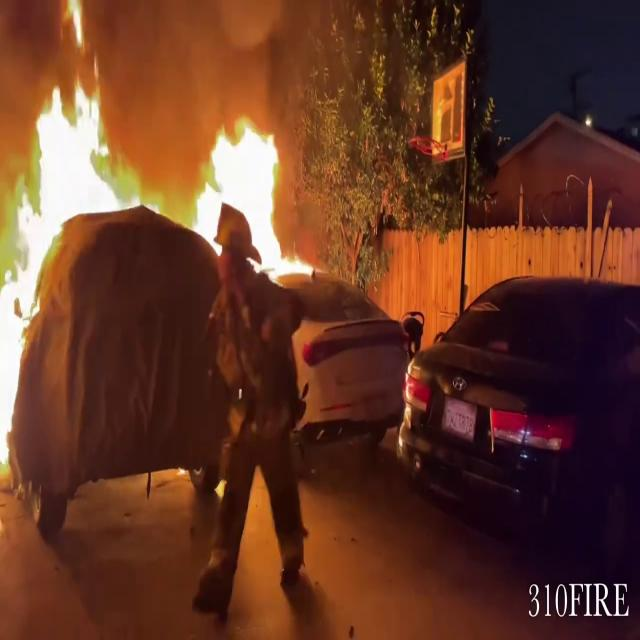Fire: (0, 18, 121, 215), (188, 108, 316, 284), (0, 191, 61, 459)
